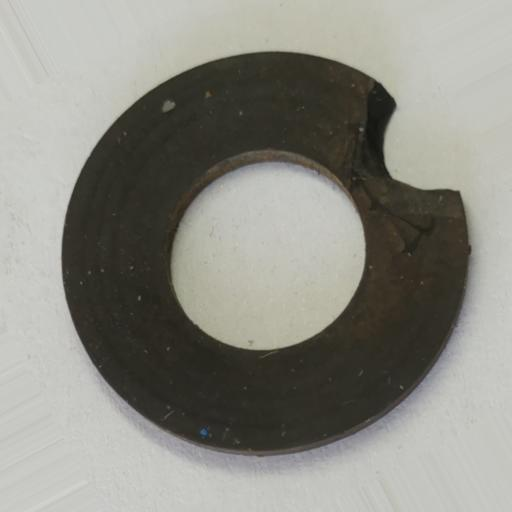defect: (355, 81, 464, 221)
